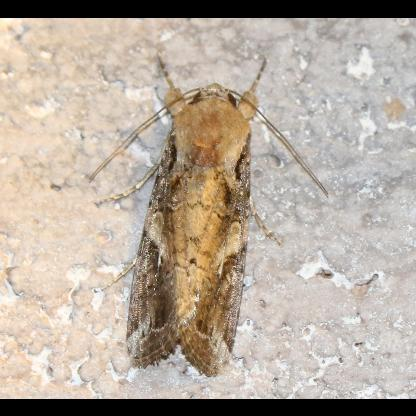Fall Armyworm Moth: (86, 48, 332, 379)
